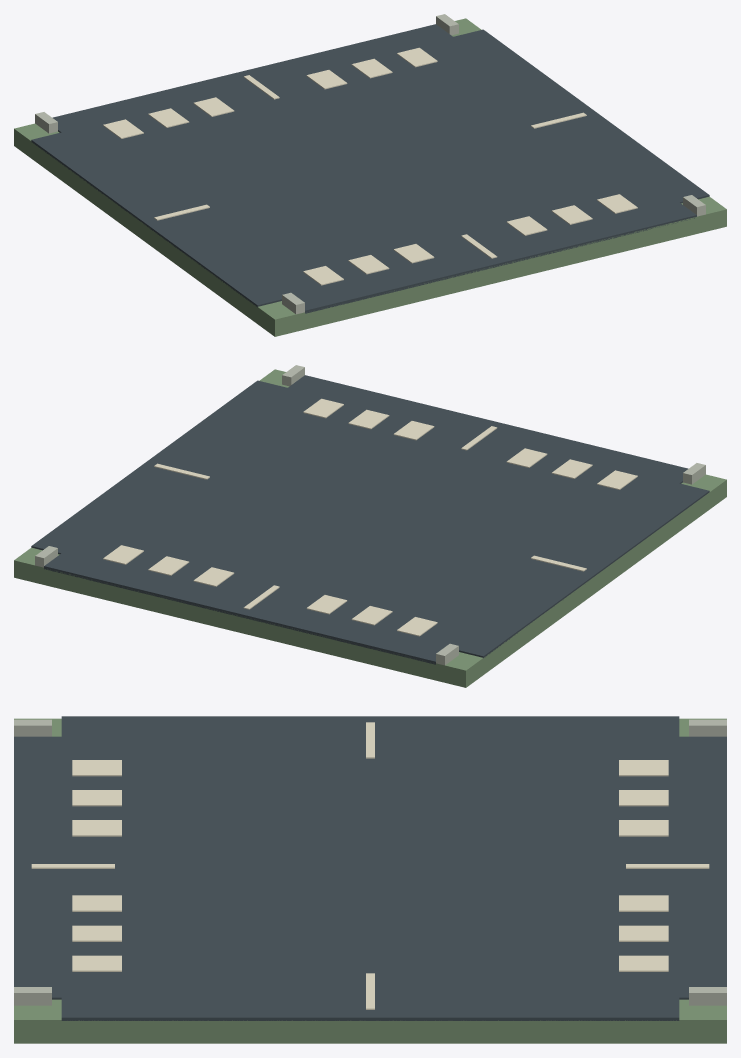
File: road-cross.glb
3 renders of one model, top to bottom at view 1: azimuth 30°, elevation 25°; view 2: azimuth 150°, elevation 25°; view 3: azimuth 270°, elevation 25°, orthographic. The views are drawn at different scales.
Visible parts, largest first — view 1: RoadCross_asphalt, RoadCross_grass, RoadCross_line, RoadCross_curb; view 2: RoadCross_asphalt, RoadCross_grass, RoadCross_line, RoadCross_curb; view 3: RoadCross_asphalt, RoadCross_grass, RoadCross_line, RoadCross_curb.
Part boxes in pixels (x1,y1,x2,y2): RoadCross_asphalt: [31, 24, 709, 313]; RoadCross_grass: [14, 18, 726, 336]; RoadCross_line: [103, 47, 637, 285]; RoadCross_curb: [35, 14, 705, 314]; RoadCross_asphalt: [31, 375, 709, 664]; RoadCross_grass: [14, 369, 726, 687]; RoadCross_line: [103, 398, 637, 636]; RoadCross_curb: [35, 365, 705, 665]; RoadCross_asphalt: [14, 716, 726, 1020]; RoadCross_grass: [14, 718, 726, 1043]; RoadCross_line: [31, 722, 709, 1009]; RoadCross_curb: [14, 719, 726, 1005].
Size of the model in its own units: 6 by 0.34 by 6.
